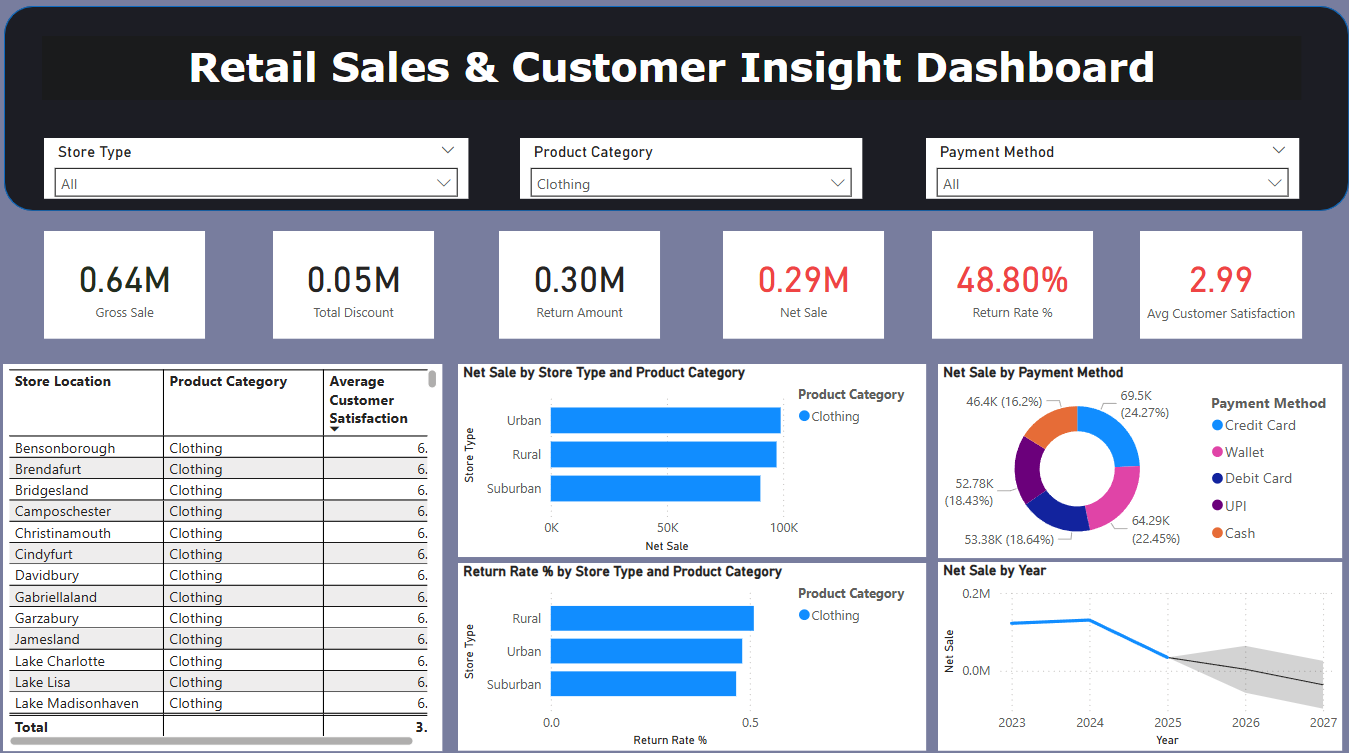

The dashboard page shown, as its layout file describes it:
{"tool":"powerbi","page":{"name":"Overview","canvas":[1280,720],"ordinal":0},"visuals":[{"type":"shape","box":[11.3,13.1,1261.2,192.2],"z":0},{"type":"clusteredBarChart","title":"Net Sale by Store Type and Product Category","fields":{"Category":["_Work_Sheet_retail_sales_customer_satis.Store_Type"],"Series":["_Work_Sheet_retail_sales_customer_satis.Product_Category"],"Y":["_Work_Sheet_retail_sales_customer_satis.Net Sale"]},"box":[437,348.8,438.9,181],"z":1000},{"type":"card","fields":{"Values":["_Work_Sheet_retail_sales_customer_satis.Estimated Return Amount"]},"box":[475.4,224.2,151,100.8],"z":2000},{"type":"card","fields":{"Values":["_Work_Sheet_retail_sales_customer_satis.Gross Sale"]},"box":[49.1,224.2,151,100.8],"z":3000},{"type":"card","fields":{"Values":["_Work_Sheet_retail_sales_customer_satis.Estimated Total Discount"]},"box":[263.3,224.2,151,100.8],"z":4000},{"type":"card","fields":{"Values":["_Work_Sheet_retail_sales_customer_satis.Net Sale"]},"box":[685.5,224.2,151,100.8],"z":5000},{"type":"textbox","box":[47.3,41,1181.3,59.9],"z":6000},{"type":"card","fields":{"Values":["_Work_Sheet_retail_sales_customer_satis.Return Rate %"]},"box":[881.8,224.2,151,100.8],"z":7000},{"type":"clusteredBarChart","title":"Return Rate % by Store Type and Product Category","fields":{"Category":["_Work_Sheet_retail_sales_customer_satis.Store_Type"],"Y":["_Work_Sheet_retail_sales_customer_satis.Return Rate %"],"Series":["_Work_Sheet_retail_sales_customer_satis.Product_Category"]},"box":[436.8,535.5,438.9,176.4],"z":8000},{"type":"donutChart","fields":{"Category":["_Work_Sheet_retail_sales_customer_satis.Payment_Method"],"Y":["_Work_Sheet_retail_sales_customer_satis.Net Sale"]},"box":[887.3,348.6,379.1,181.7],"z":9000},{"type":"card","fields":{"Values":["Avg(_Work_Sheet_retail_sales_customer_satis.Customer_Satisfaction_Rating)"]},"box":[1076.5,224.1,151.9,101.3],"z":10000},{"type":"tableEx","fields":{"Values":["_Work_Sheet_retail_sales_customer_satis.Store_Location","_Work_Sheet_retail_sales_customer_satis.Product_Category","_Work_Sheet_retail_sales_customer_satis.Average Customer Satisfaction"]},"box":[10.5,348.6,411.6,363.3],"z":11000},{"type":"lineChart","fields":{"Category":["_Work_Sheet_retail_sales_customer_satis.Purchase_Date.Variation.Date Hierarchy.Year","_Work_Sheet_retail_sales_customer_satis.Purchase_Date.Variation.Date Hierarchy.Quarter","_Work_Sheet_retail_sales_customer_satis.Purchase_Date.Variation.Date Hierarchy.Month","_Work_Sheet_retail_sales_customer_satis.Purchase_Date.Variation.Date Hierarchy.Day"],"Y":["_Work_Sheet_retail_sales_customer_satis.Net Sale"]},"box":[887.3,534.5,379.1,177.5],"z":12000},{"type":"slicer","fields":{"Values":["_Work_Sheet_retail_sales_customer_satis.Store_Type"]},"box":[48.8,136.9,397.6,57.2],"z":13000},{"type":"slicer","fields":{"Values":["_Work_Sheet_retail_sales_customer_satis.Payment_Method"]},"box":[875.8,136.9,349.8,57.2],"z":14000},{"type":"slicer","fields":{"Values":["_Work_Sheet_retail_sales_customer_satis.Product_Category"]},"box":[495.1,136.9,320.7,57.2],"z":15000}]}

Visuals, with their boxes in screenshot pixels (x1, y1, x2, y2), scaled from the page's 1280x720 canvas onto the 1349x753 screenshot:
shape: 12:14:1341:215
"Net Sale by Store Type and Product Category" clusteredBarChart: 461:365:923:554
card - _Work_Sheet_retail_sales_customer_satis.Estimated Return Amount: 501:234:660:340
card - _Work_Sheet_retail_sales_customer_satis.Gross Sale: 52:234:211:340
card - _Work_Sheet_retail_sales_customer_satis.Estimated Total Discount: 277:234:437:340
card - _Work_Sheet_retail_sales_customer_satis.Net Sale: 722:234:882:340
textbox: 50:43:1295:106
card - _Work_Sheet_retail_sales_customer_satis.Return Rate %: 929:234:1088:340
"Return Rate % by Store Type and Product Category" clusteredBarChart: 460:560:923:745
donutChart - _Work_Sheet_retail_sales_customer_satis.Payment_Method x _Work_Sheet_retail_sales_customer_satis.Net Sale: 935:365:1335:555
card - Avg(_Work_Sheet_retail_sales_customer_satis.Customer_Satisfaction_Rating): 1135:234:1295:340
tableEx - _Work_Sheet_retail_sales_customer_satis.Store_Location x _Work_Sheet_retail_sales_customer_satis.Product_Category: 11:365:445:745
lineChart - _Work_Sheet_retail_sales_customer_satis.Purchase_Date.Variation.Date Hierarchy.Year x _Work_Sheet_retail_sales_customer_satis.Purchase_Date.Variation.Date Hierarchy.Quarter: 935:559:1335:745
slicer - _Work_Sheet_retail_sales_customer_satis.Store_Type: 51:143:470:203
slicer - _Work_Sheet_retail_sales_customer_satis.Payment_Method: 923:143:1292:203
slicer - _Work_Sheet_retail_sales_customer_satis.Product_Category: 522:143:860:203
